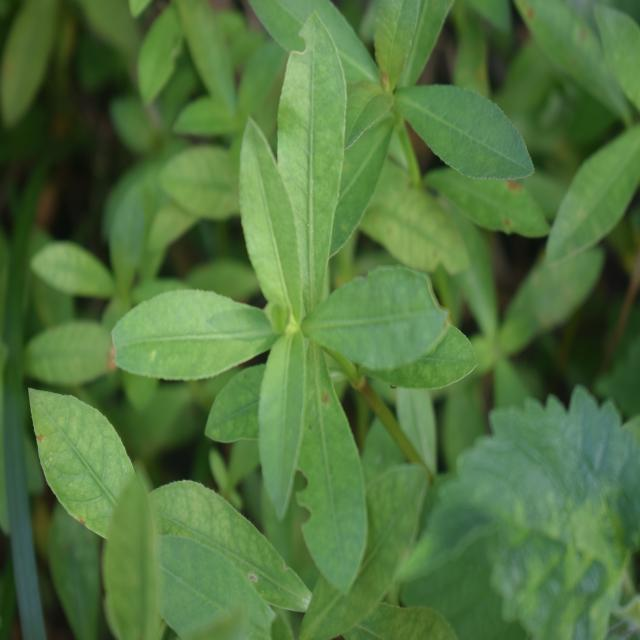Alligatorweed: (120, 32, 427, 565)
